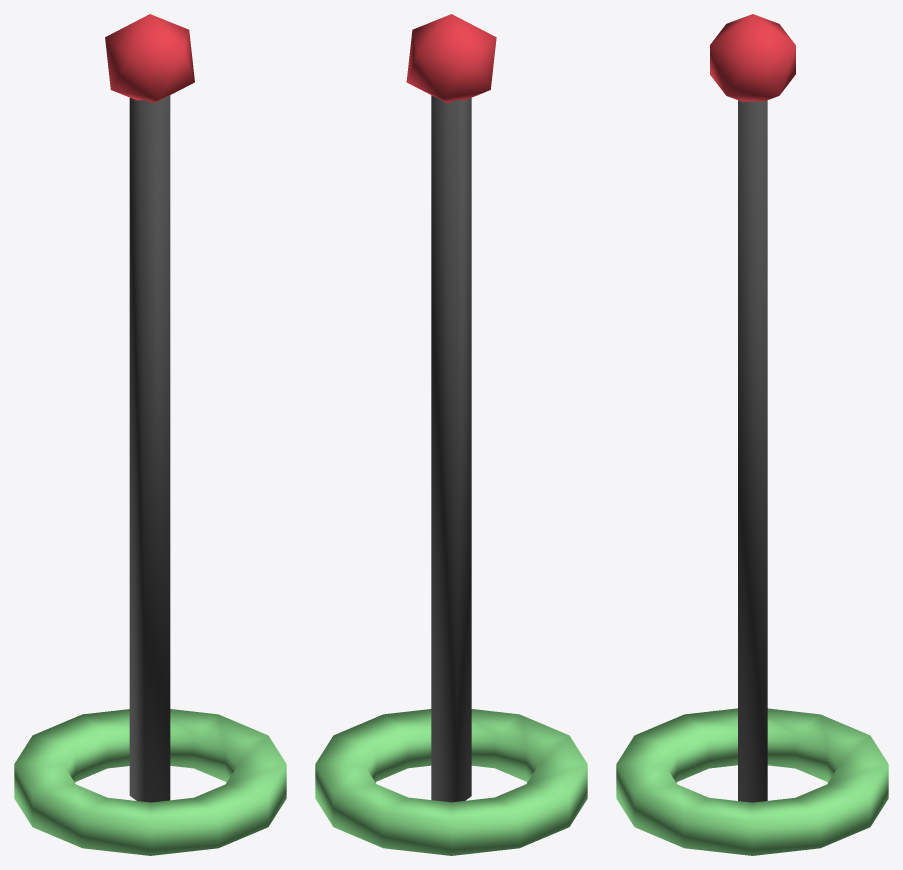
Rendered from Pin.glb.
The picture shows the model from 3 angles, left to right: view 1: azimuth 30°, elevation 25°; view 2: azimuth 150°, elevation 25°; view 3: azimuth 270°, elevation 25°; orthographic projection.
Visible parts, largest first — view 1: Cube, Circle, Icosphere; view 2: Cube, Circle, Icosphere; view 3: Circle, Cube, Icosphere.
Boxes of the visible parts, left/top/right/bottom form: Cube: left=129, top=95, right=170, bottom=802; Circle: left=14, top=709, right=286, bottom=855; Icosphere: left=105, top=14, right=194, bottom=103; Cube: left=431, top=95, right=471, bottom=802; Circle: left=315, top=709, right=587, bottom=855; Icosphere: left=406, top=14, right=496, bottom=103; Circle: left=616, top=708, right=888, bottom=855; Cube: left=738, top=100, right=767, bottom=802; Icosphere: left=710, top=14, right=795, bottom=101.
Bounding box in the file's own units: 0.3152 × 1 × 0.3152.
